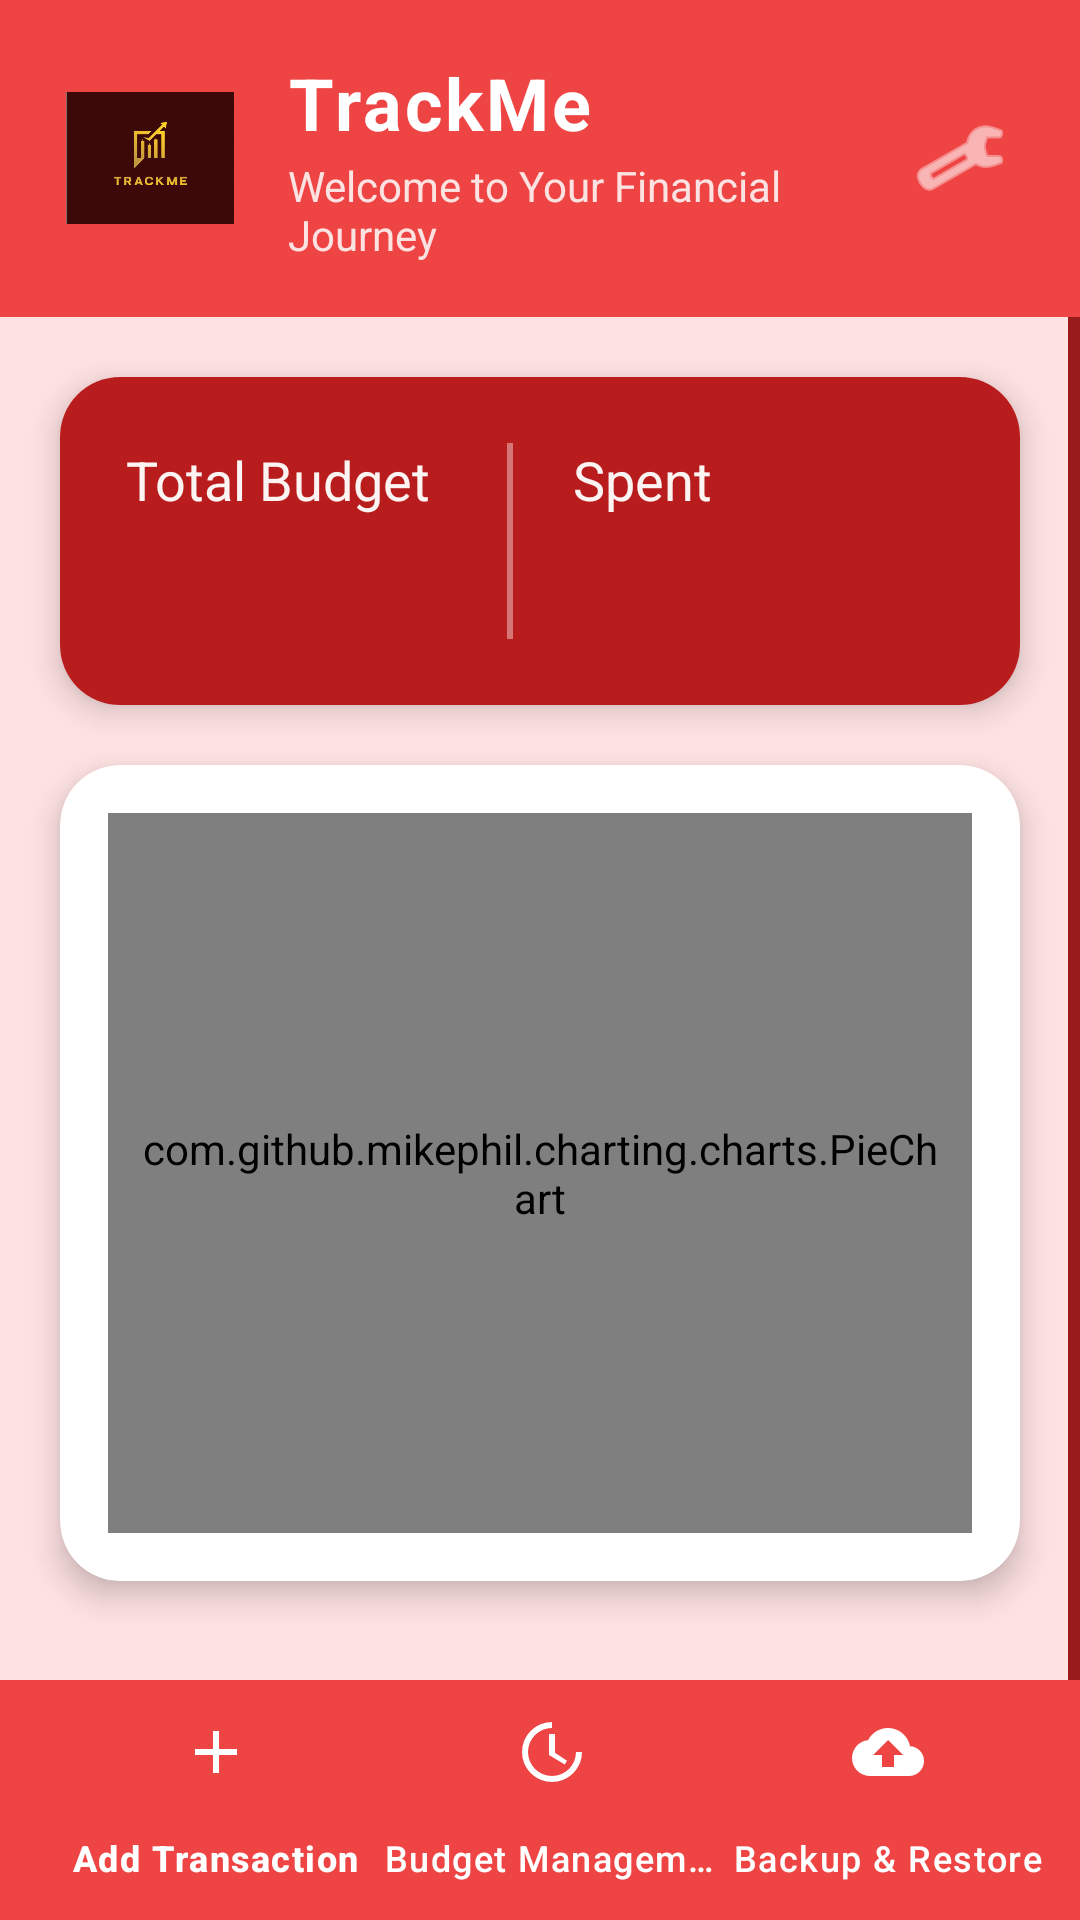

Point at icon controls on the screen. Image size 1080x1920, points as [x,y].
Settings: [960,158]
